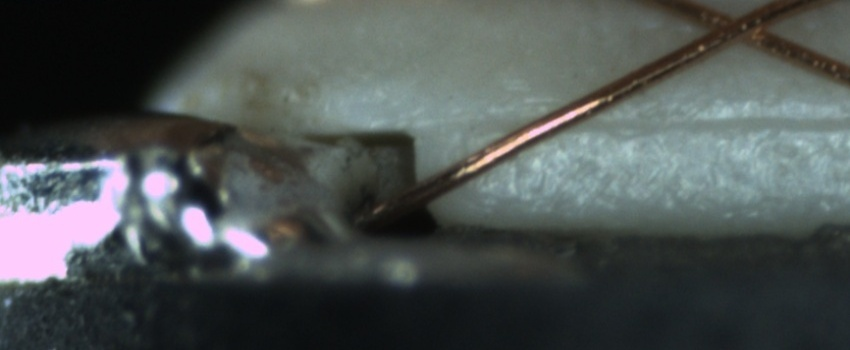CL: (689, 1, 792, 56)
DL: (412, 94, 849, 158)
